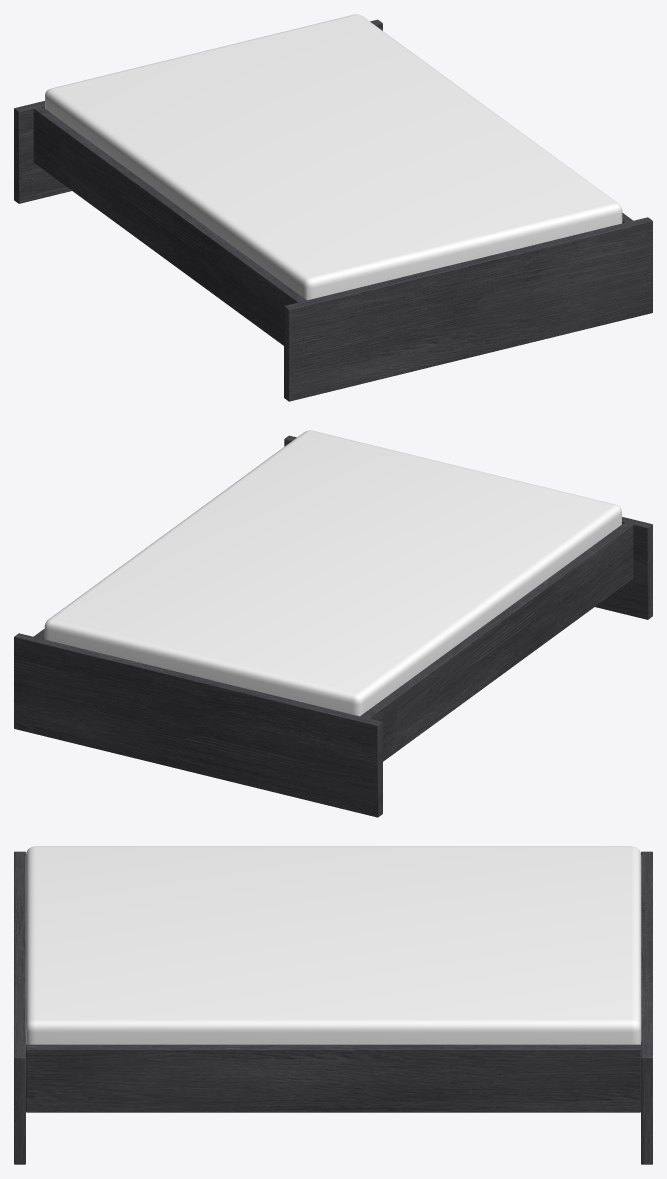
File: B07GFRH5ZS.glb
3 renders of one model, top to bottom at view 1: azimuth 30°, elevation 25°; view 2: azimuth 150°, elevation 25°; view 3: azimuth 270°, elevation 25°, orthographic. The views are drawn at different scales.
Visible parts, largest first — view 1: B07GFRH5ZS; view 2: B07GFRH5ZS; view 3: B07GFRH5ZS.
Part boxes in pixels (x1,y1,x2,y2): B07GFRH5ZS: [14, 14, 652, 401]; B07GFRH5ZS: [14, 430, 652, 817]; B07GFRH5ZS: [14, 846, 652, 1164].
Size of the model in its own units: 1.49 by 0.4318 by 1.95.
1 material, 1 textured.
